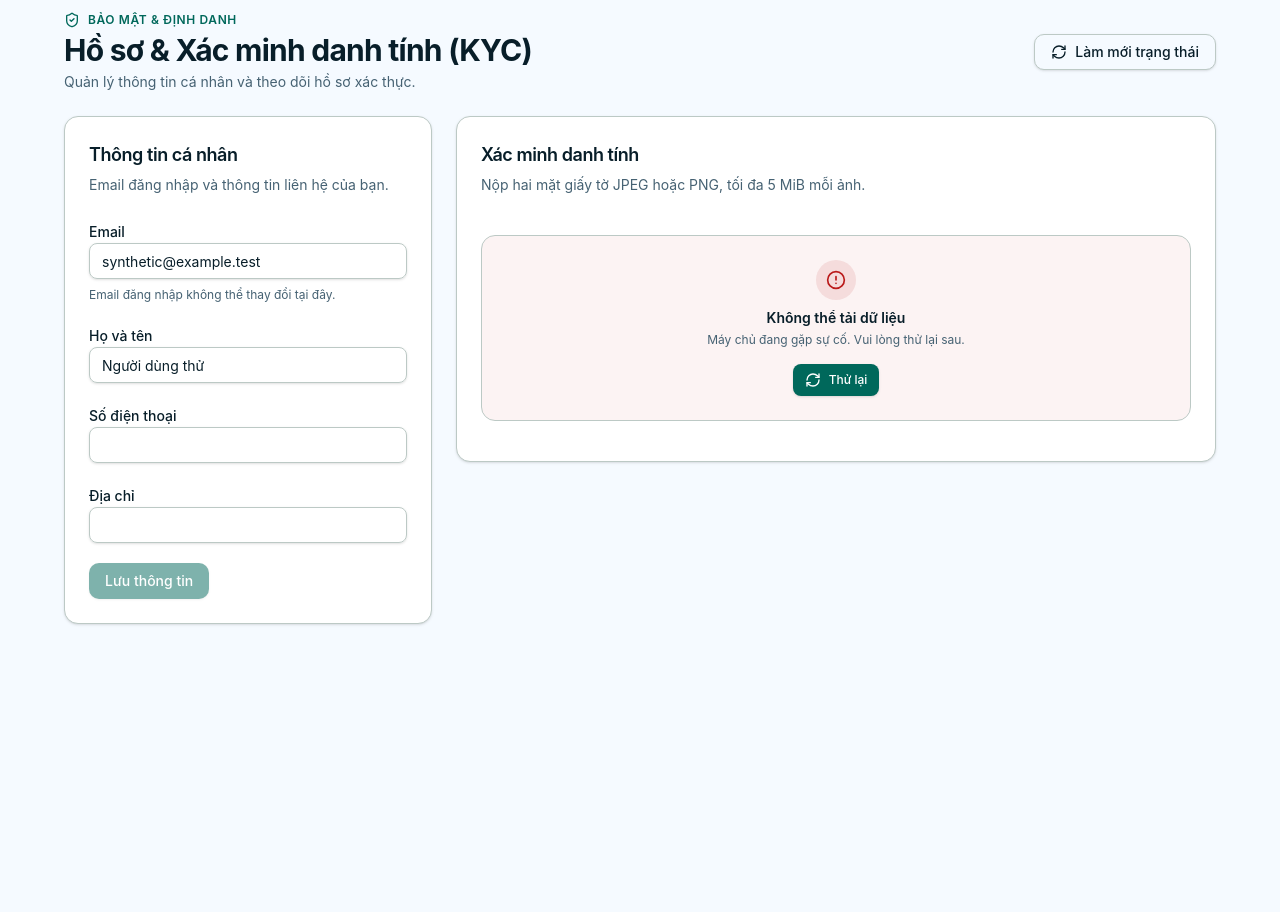
Test: Profile and KYC integration › shows a safe error with retry and then loads the status
Click the button "Thử lại" at x=836, y=380, box 793,364 -> 879,396
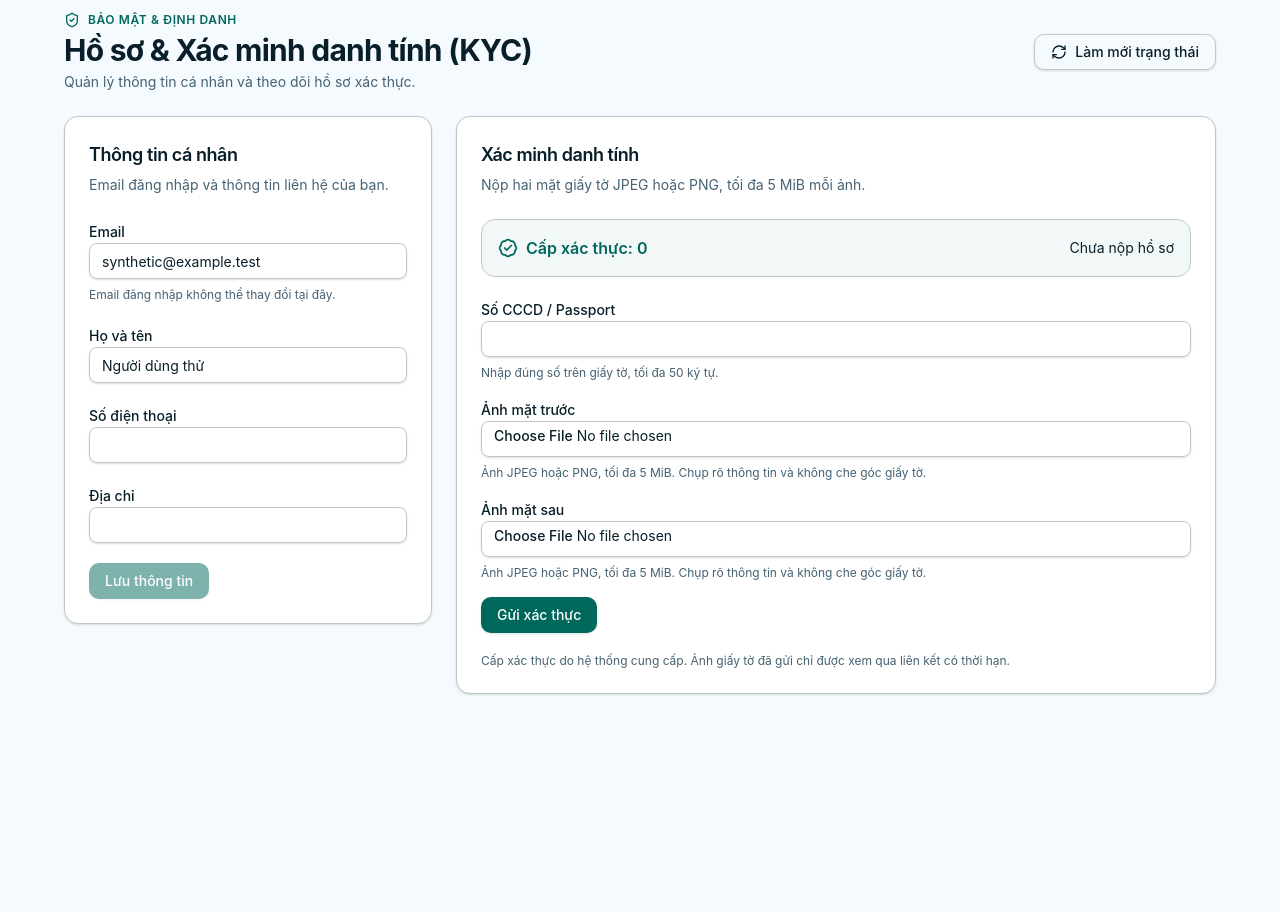
Expected: the text "Chưa nộp hồ sơ" is shown, 1070,238 -> 1174,258
